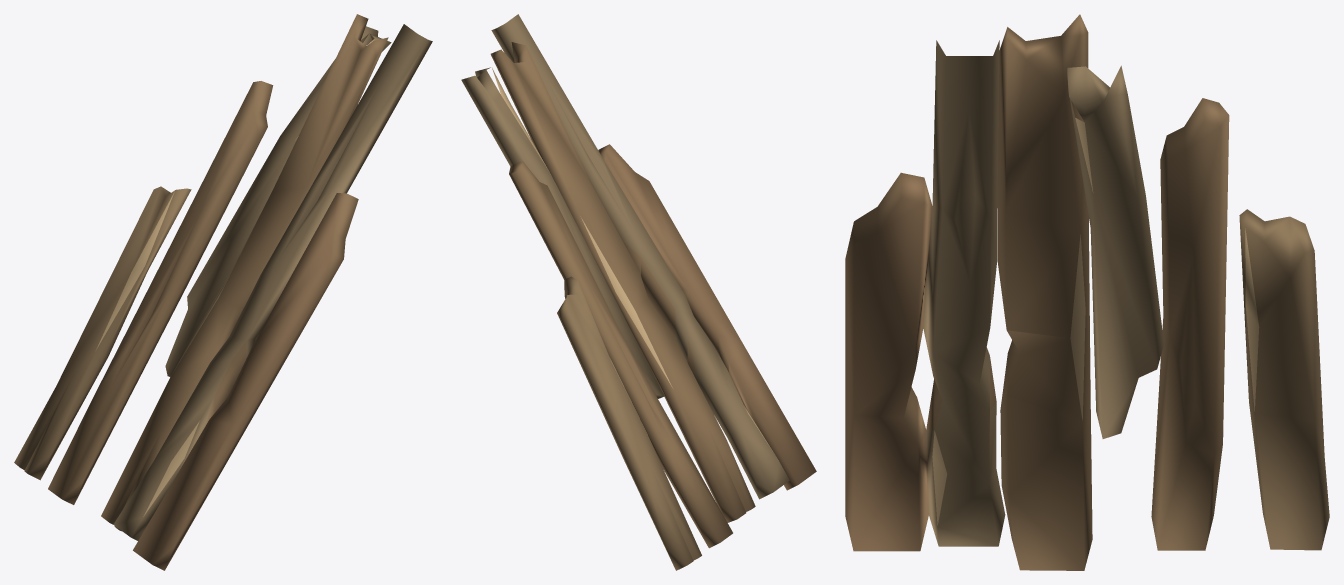
File: rpgpp_av_roof_02_6x5x3_half_c.gltf
The picture shows the model from 3 angles, left to right: view 1: azimuth 30°, elevation 25°; view 2: azimuth 150°, elevation 25°; view 3: azimuth 270°, elevation 25°; orthographic projection. The views are drawn at different scales.
Parts seen in each view (by area): view 1: rpgpp_av_roof_02_6x5x3_half_c; view 2: rpgpp_av_roof_02_6x5x3_half_c; view 3: rpgpp_av_roof_02_6x5x3_half_c.
Boxes of the visible parts, x1,y1,x2,y2 form: rpgpp_av_roof_02_6x5x3_half_c: [14, 14, 432, 570]; rpgpp_av_roof_02_6x5x3_half_c: [461, 14, 816, 570]; rpgpp_av_roof_02_6x5x3_half_c: [845, 14, 1329, 570].
Size of the model in its own units: 0.0358 by 0.0501 by 0.0288.
1 material, 1 textured.
